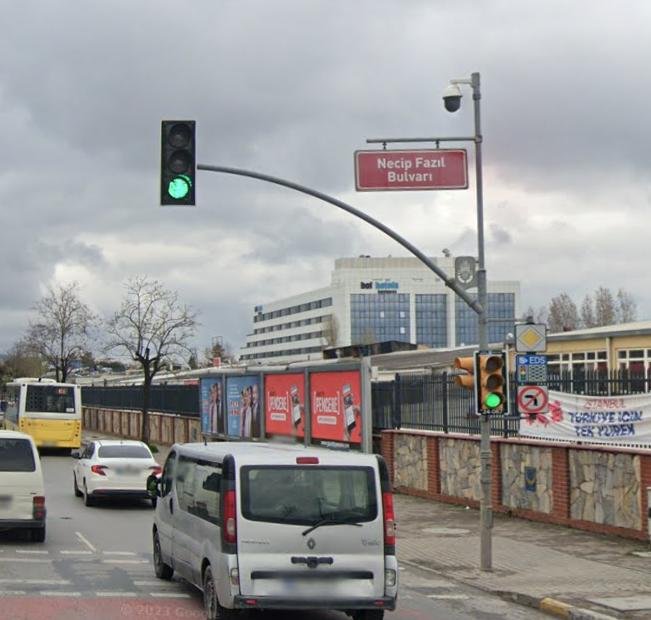greenlight: (163, 121, 193, 201), (475, 352, 504, 410)
leftturnsareforbidden: (518, 386, 547, 412)
